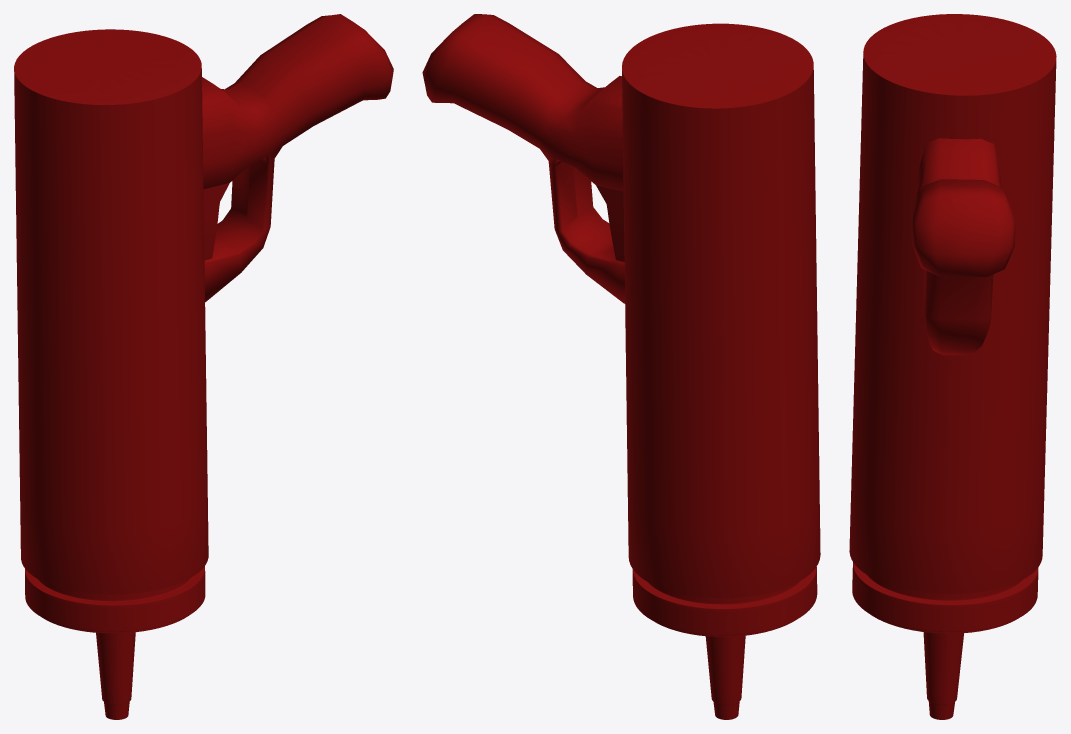
File: ketchup gun.FBX
The picture shows the model from 3 angles, left to right: view 1: azimuth 30°, elevation 25°; view 2: azimuth 150°, elevation 25°; view 3: azimuth 270°, elevation 25°; orthographic projection. The views are drawn at different scales.
Visible parts, largest first — view 1: ketchup gun; view 2: ketchup gun; view 3: ketchup gun.
Boxes of the visible parts, x1,y1,x2,y2 form: ketchup gun: (14,14,393,719); ketchup gun: (422,14,820,719); ketchup gun: (849,14,1056,719).
Bounding box in the file's own units: 53.69 × 93.02 × 26.33.
